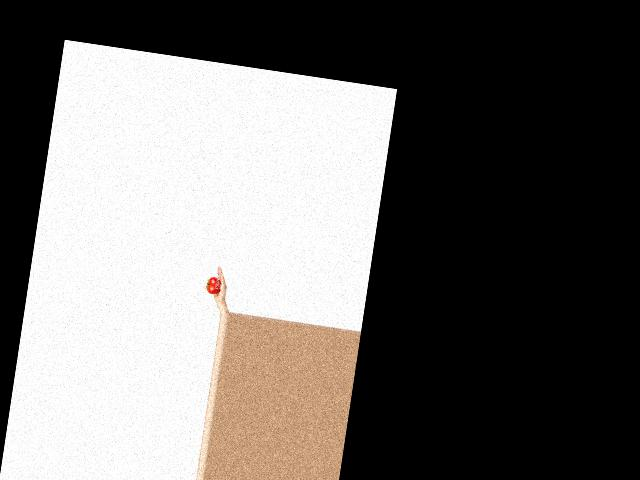tomato: (205, 276, 222, 294)
